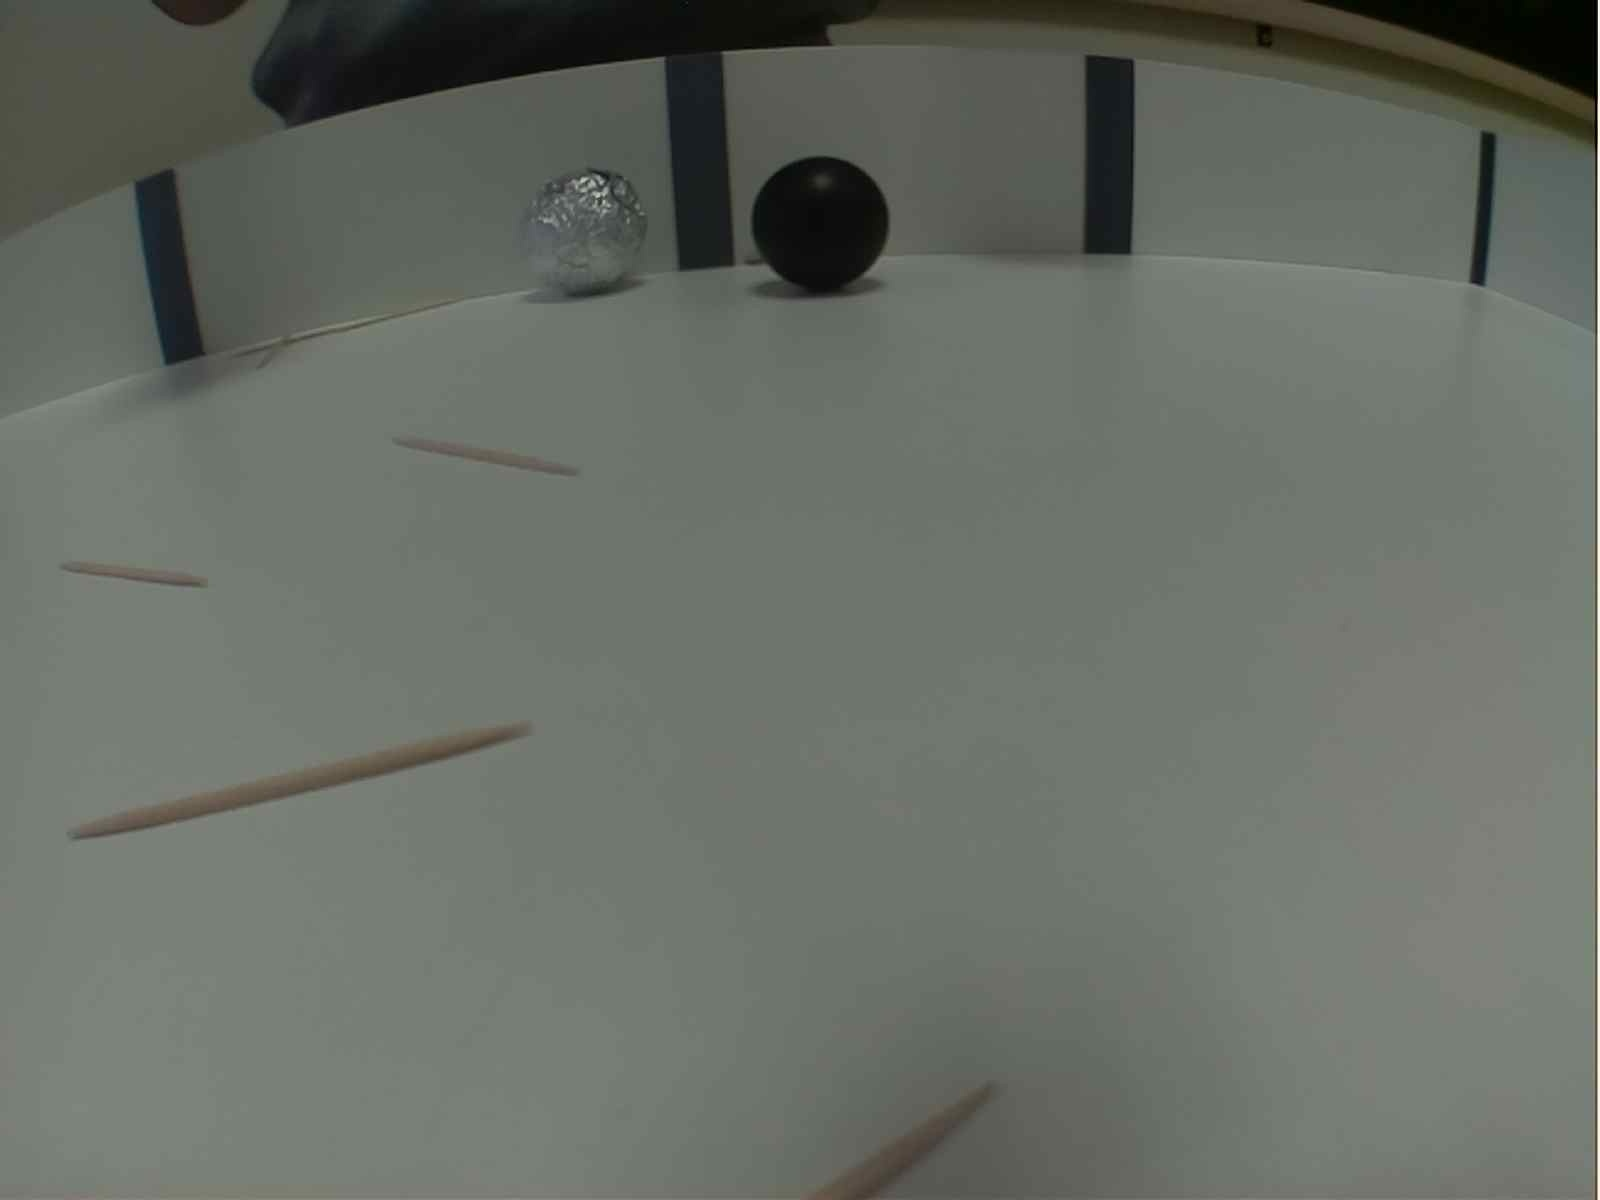bianca: (522, 165, 653, 296)
nera: (745, 150, 893, 290)
